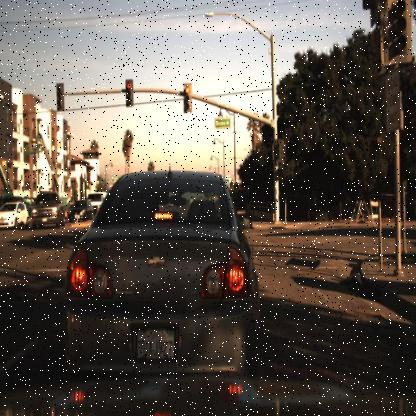car: (62, 168, 261, 388), (30, 190, 70, 228), (0, 200, 30, 231), (82, 188, 110, 220), (64, 198, 93, 226)
trafficLight: (382, 1, 413, 64), (182, 81, 192, 115), (55, 83, 64, 110), (276, 138, 281, 154)
trafficLight-Red: (387, 0, 405, 55), (124, 78, 134, 107), (273, 138, 284, 164)
